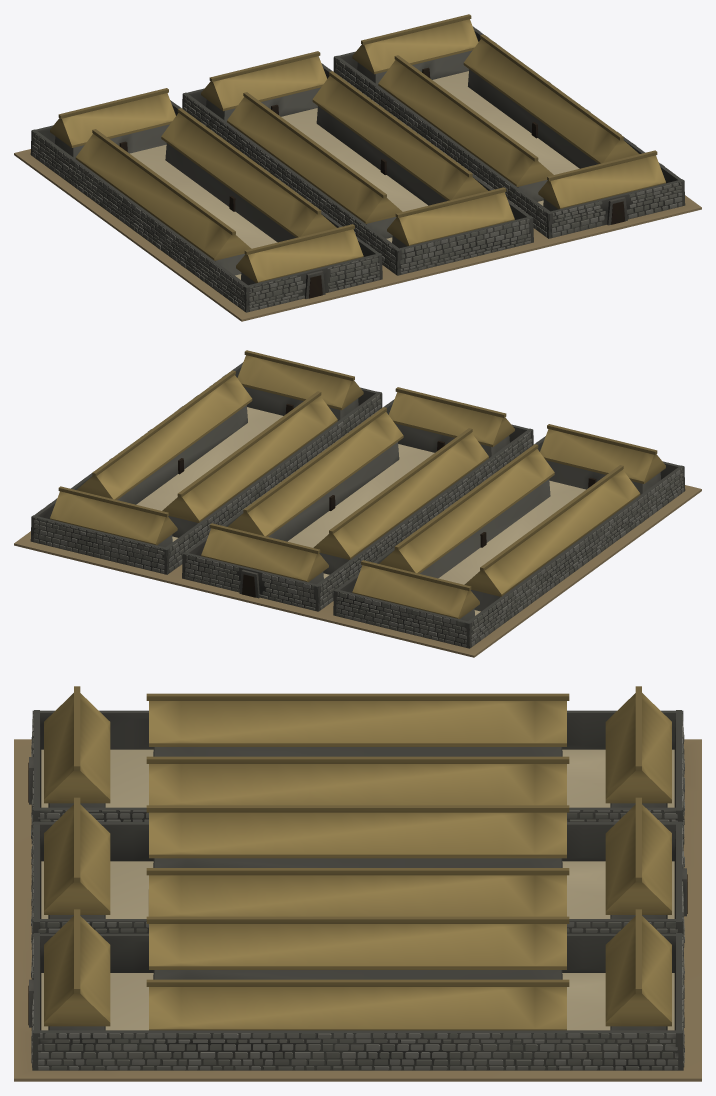
Rendered from kusicancha.glb.
3 views of the same model, one above another, from view 1: azimuth 30°, elevation 25°; view 2: azimuth 150°, elevation 25°; view 3: azimuth 270°, elevation 25° (orthographic). The views are drawn at different scales.
Parts seen in each view (by area): view 1: p2_roofs, p1_walls, p0_ground; view 2: p2_roofs, p1_walls, p0_ground; view 3: p2_roofs, p1_walls, p0_ground.
Boxes of the visible parts, x1,y1,x2,y2 form: p2_roofs: [50, 14, 665, 282]; p1_walls: [30, 26, 685, 312]; p0_ground: [14, 149, 701, 321]; p2_roofs: [50, 350, 665, 618]; p1_walls: [30, 362, 685, 648]; p0_ground: [14, 485, 701, 657]; p2_roofs: [44, 686, 671, 1030]; p1_walls: [28, 710, 687, 1070]; p0_ground: [14, 739, 701, 1081].
Bounding box in the file's own units: 70 × 7.15 × 60.
